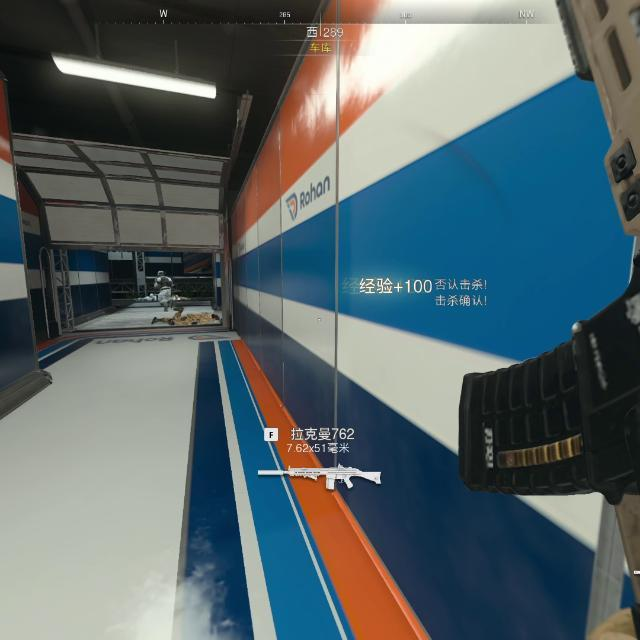MW2_body: (152, 269, 179, 312)
